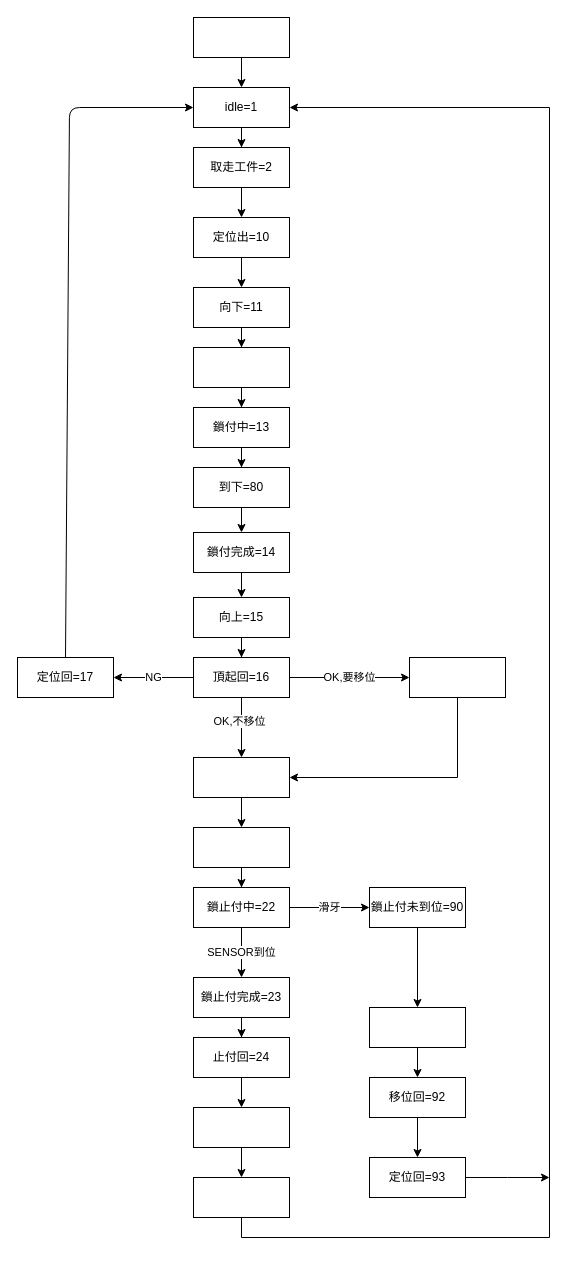
Image size: 575x1263. Some labels were removed from this diagram. The centre of each missing label's shape, as x and y in pixels:
power on=0: the point at 241,37
定位回=41: the point at 241,1197
止付出=20: the point at 241,777
止付回=91: the point at 417,1027
止付起動=21: the point at 241,847
移位出=30: the point at 457,677
移位回=40: the point at 241,1127
鎖付起動=12: the point at 241,367
